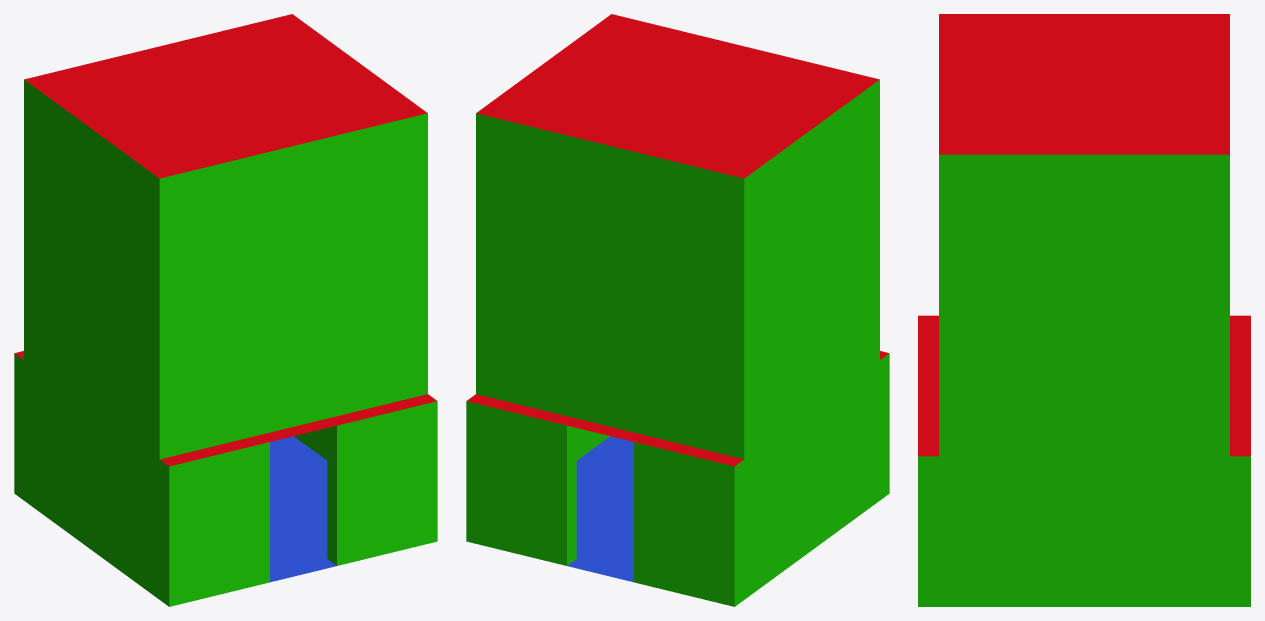
Rendered from 2x2_Room_Tall.fbx.
3 views of the same model, side by side, from view 1: azimuth 30°, elevation 25°; view 2: azimuth 150°, elevation 25°; view 3: azimuth 270°, elevation 25° (orthographic). The views are drawn at different scales.
Parts seen in each view (by area): view 1: 2x2 Room Tall; view 2: 2x2 Room Tall; view 3: 2x2 Room Tall.
Boxes of the visible parts, x1,y1,x2,y2 form: 2x2 Room Tall: (14, 14, 437, 606); 2x2 Room Tall: (466, 14, 889, 606); 2x2 Room Tall: (918, 14, 1250, 606).
Size of the model in its own units: 1600 by 2400 by 1600.
